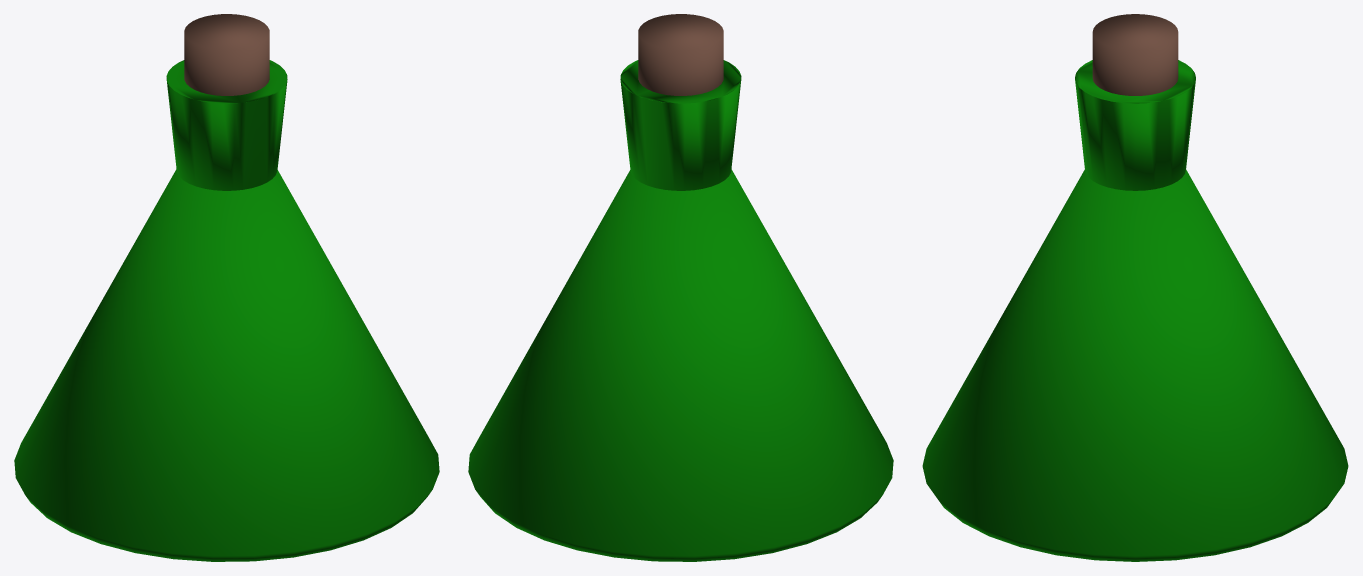
The model's file is GREEN CONE POTION.glb.
3 views of the same model, side by side, from view 1: azimuth 30°, elevation 25°; view 2: azimuth 150°, elevation 25°; view 3: azimuth 270°, elevation 25° (orthographic).
Parts seen in each view (by area): view 1: Cone, Cylinder; view 2: Cone, Cylinder; view 3: Cone, Cylinder.
Boxes of the visible parts, left/top/right/bottom form: Cone: left=14, top=169, right=439, bottom=561; Cylinder: left=166, top=14, right=287, bottom=190; Cone: left=468, top=169, right=893, bottom=561; Cylinder: left=620, top=14, right=741, bottom=190; Cone: left=922, top=169, right=1348, bottom=561; Cylinder: left=1075, top=14, right=1195, bottom=190.
Bounding box in the file's own units: 1.96 × 2.24 × 1.96.
